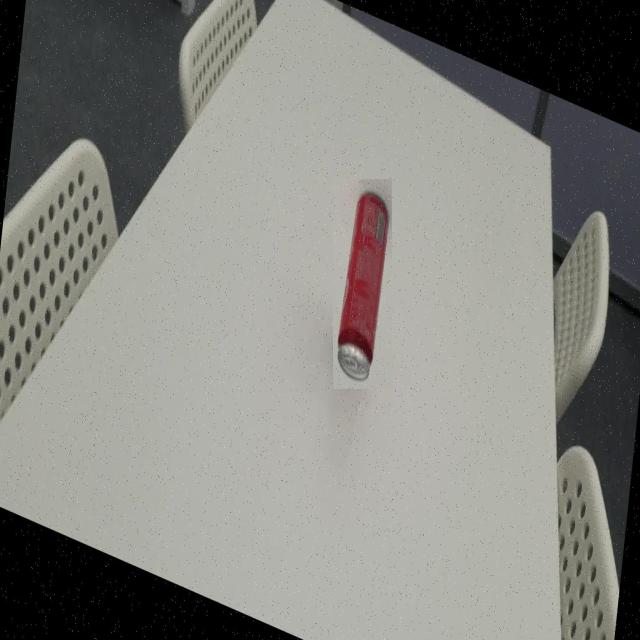coca-cola: (333, 179, 392, 389)
